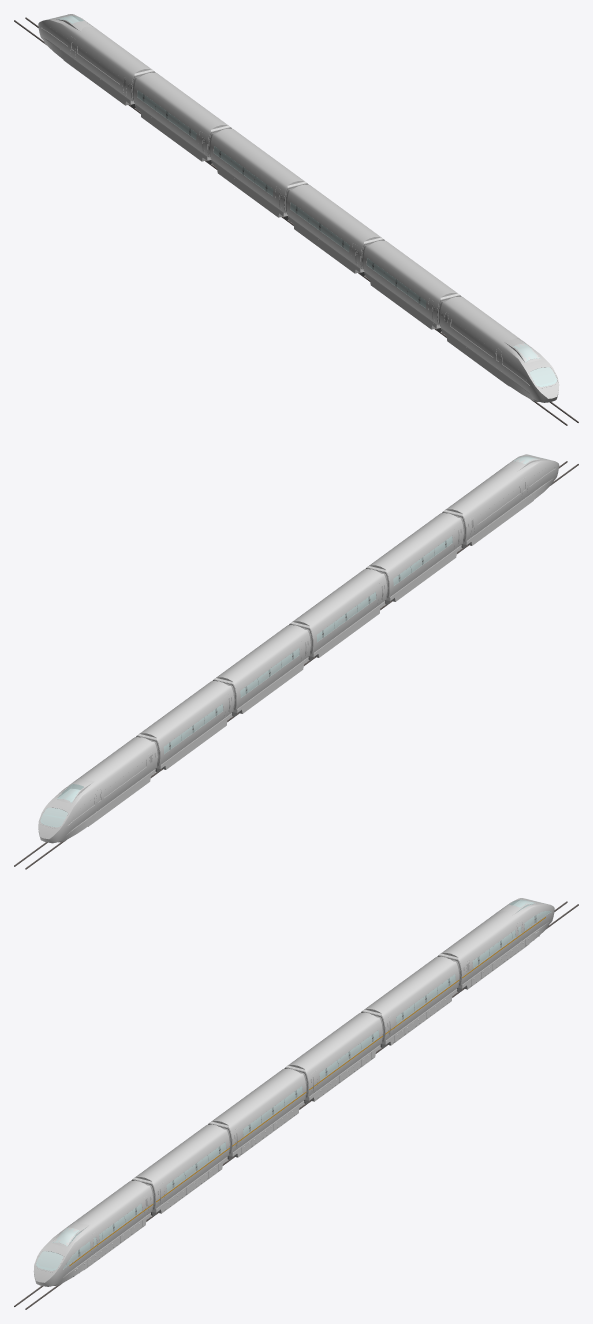
3 renders of one model, top to bottom at view 1: azimuth 30°, elevation 25°; view 2: azimuth 150°, elevation 25°; view 3: azimuth 330°, elevation 25°, orthographic.
Visible parts, largest first — view 1: model12; view 2: model12; view 3: model12.
Boxes of the visible parts, left/top/right/bottom form: model12: left=14, top=14, right=578, bottom=425; model12: left=14, top=454, right=578, bottom=869; model12: left=14, top=898, right=578, bottom=1309.
Bounding box in the file's own units: 0.00681 × 0.00984 × 0.2411.
